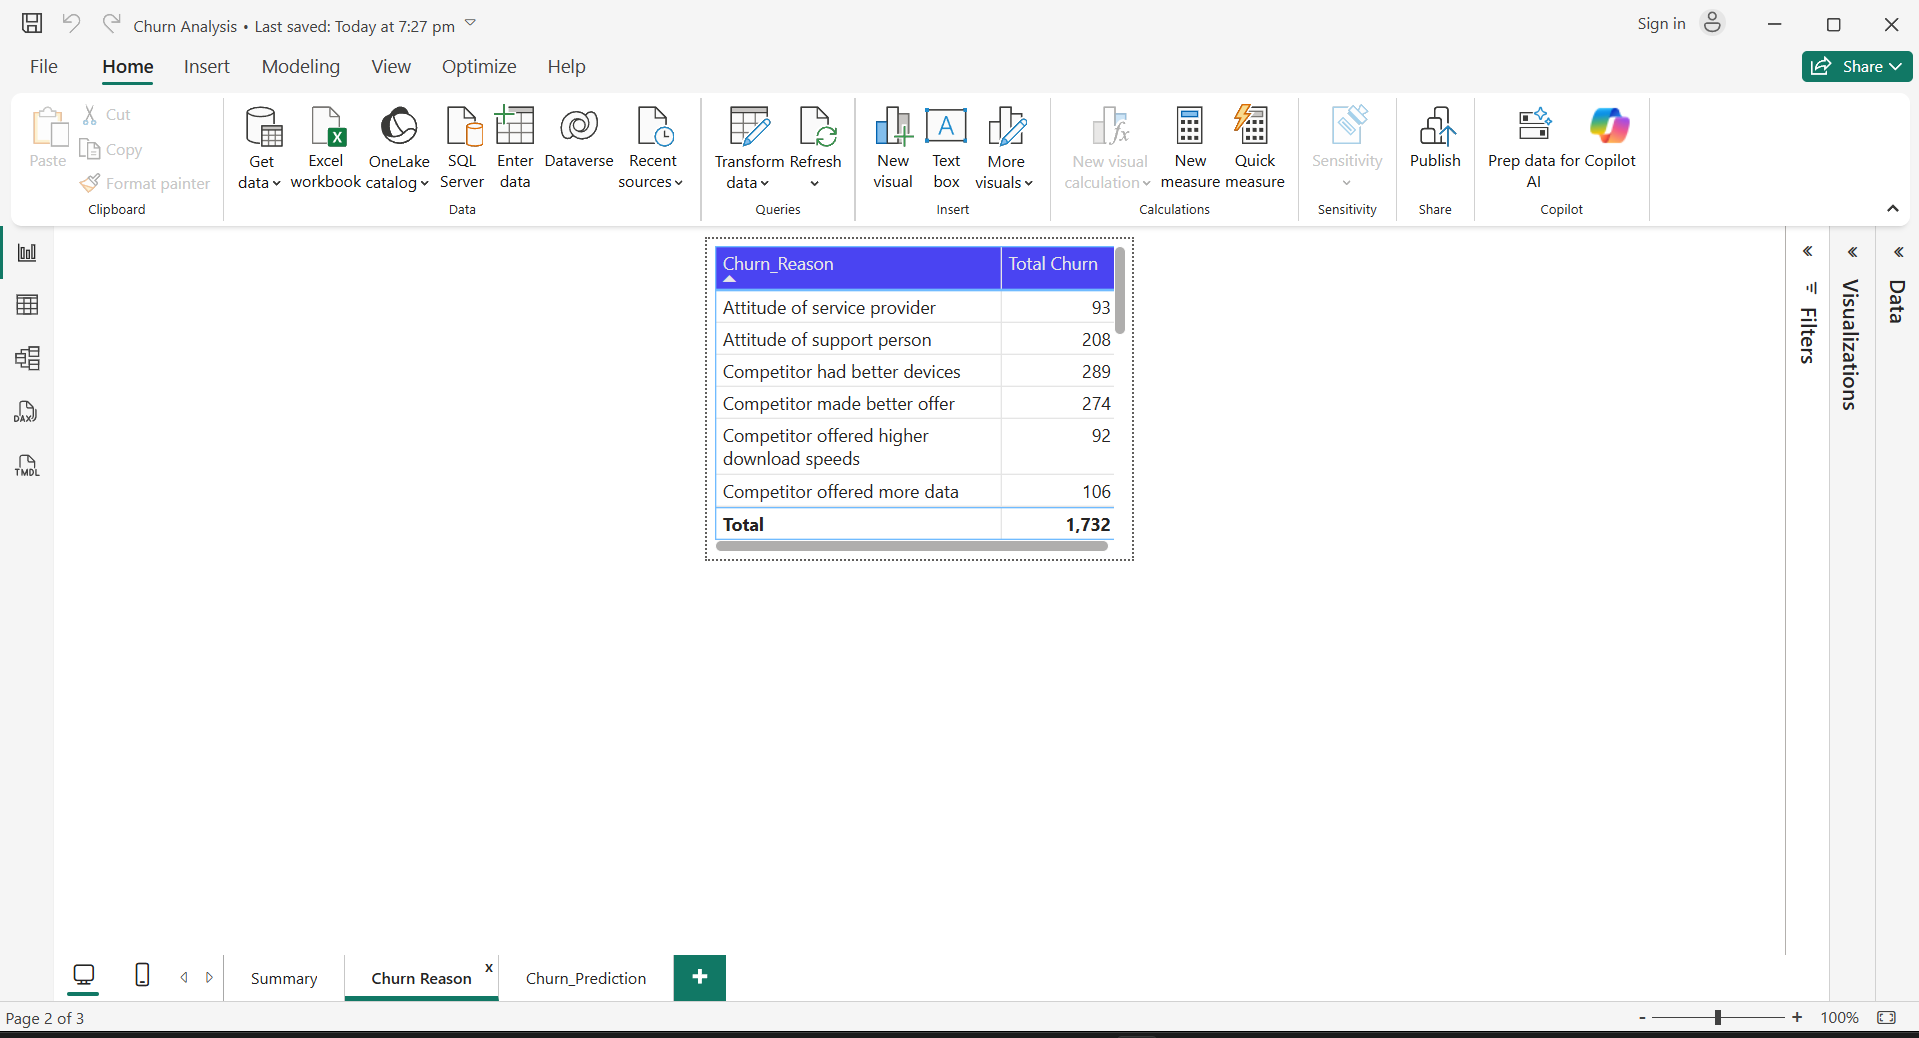

Layout of this report page (visuals, bound fields, positions):
{"tool":"powerbi","page":{"name":"Churn Reason","canvas":[320,240],"ordinal":1},"visuals":[{"type":"tableEx","fields":{"Values":["prod_Churn.Churn_Reason","tbl_Measures.Total Churn"]},"box":[0,0,320,240],"z":0}]}

Visuals, with their boxes on the page's 320x240 design canvas (x1, y1, x2, y2). These are canvas units, not pixel positions in the 1919x1038 screenshot, which may show the page scaled, cropped or inside an application window:
tableEx - prod_Churn.Churn_Reason x tbl_Measures.Total Churn: pyautogui.locateOnScreen(0, 0, 320, 240)
